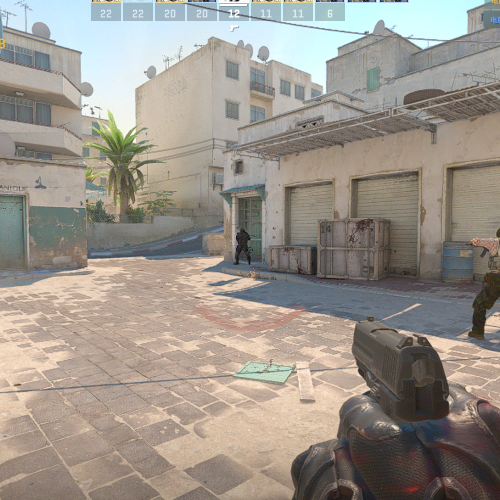ct_body: (235, 227, 252, 266)
t_body: (468, 226, 499, 341)
